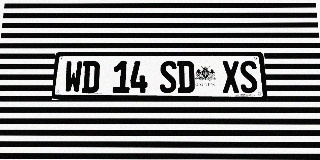1: (112, 61, 130, 93)
4: (130, 61, 147, 93)
D: (81, 61, 100, 93), (177, 61, 195, 93)
S: (239, 61, 258, 93), (160, 61, 177, 93)
W: (64, 61, 83, 93)
X: (222, 61, 240, 93)
